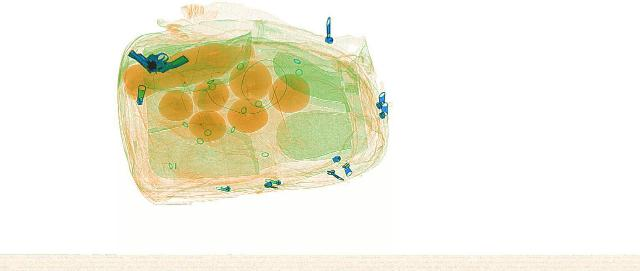Gun: (110, 42, 194, 74)
